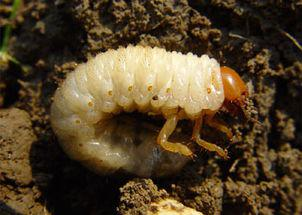grub: (47, 44, 251, 178), (246, 42, 247, 45)
